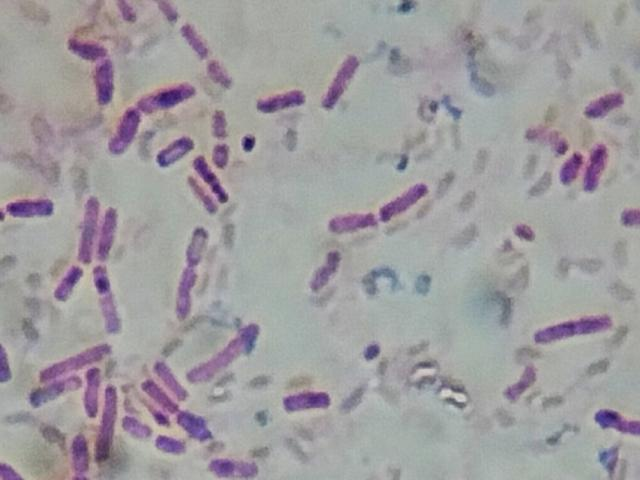E. coli: (186, 327, 266, 388), (67, 27, 127, 103), (532, 306, 619, 353), (40, 340, 118, 376), (320, 49, 360, 114), (375, 176, 429, 223), (137, 84, 197, 125), (96, 262, 126, 334), (24, 374, 85, 409), (259, 82, 317, 117), (193, 156, 235, 204), (153, 352, 192, 401), (590, 398, 636, 439), (168, 261, 200, 318), (104, 105, 143, 151), (174, 226, 221, 264), (330, 202, 376, 239), (283, 388, 333, 420), (585, 140, 612, 199), (584, 88, 624, 125), (3, 191, 53, 219), (77, 194, 97, 264), (153, 136, 198, 167), (144, 372, 174, 418), (52, 261, 85, 302), (209, 452, 256, 480), (184, 25, 219, 62), (100, 382, 116, 462), (184, 180, 215, 215), (0, 340, 22, 389), (102, 202, 120, 260), (174, 412, 212, 439), (153, 430, 186, 460), (562, 148, 582, 192), (123, 415, 151, 445), (85, 364, 99, 416), (73, 435, 89, 480), (213, 141, 237, 166), (0, 457, 26, 480), (208, 110, 230, 133)
